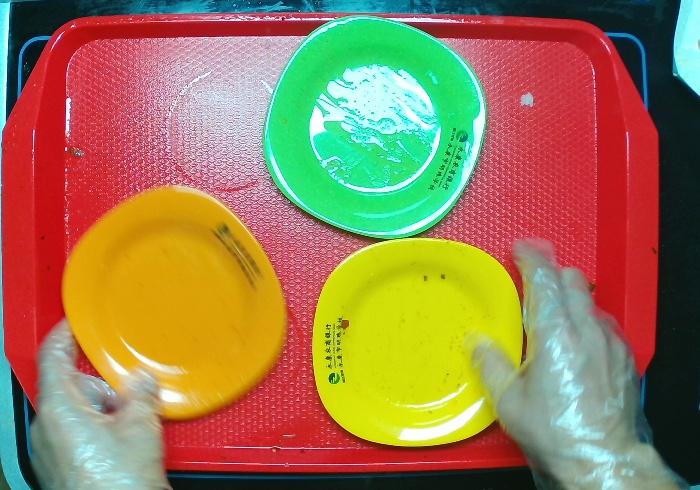YKMZ-Huang_Se_Fang_Die: (299, 232, 523, 454)
YKMZ-Ju_Se_Fang_Die: (54, 178, 293, 428)
YKMZ-Lv_Se_Fang_Die: (260, 9, 492, 242)
